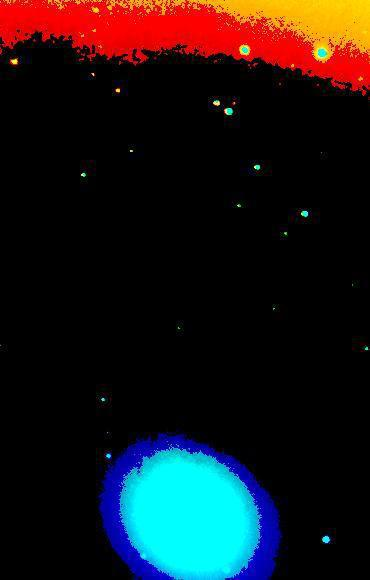star: (246, 224, 276, 254)
